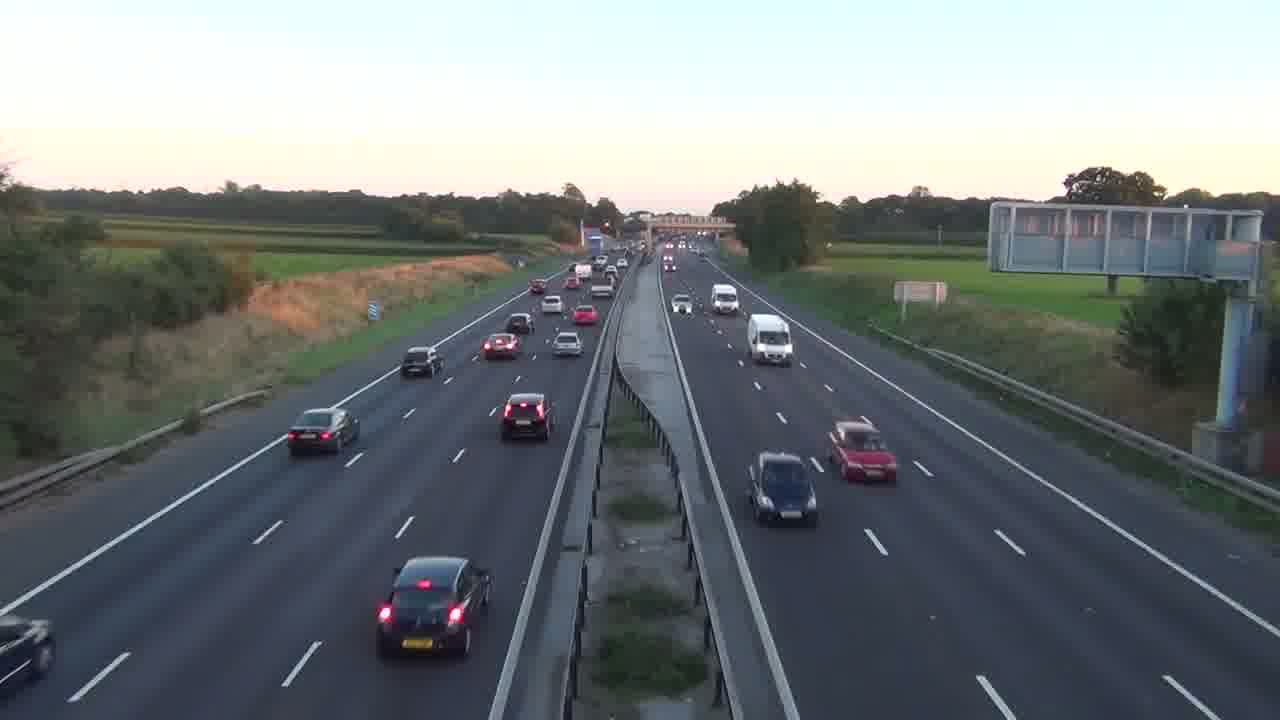car: (374, 555, 494, 659), (745, 450, 820, 527), (827, 417, 898, 485), (0, 617, 57, 695), (287, 407, 359, 455), (501, 391, 551, 441), (480, 333, 521, 362), (400, 345, 437, 377), (550, 329, 583, 358), (507, 313, 534, 335), (571, 305, 599, 326)
